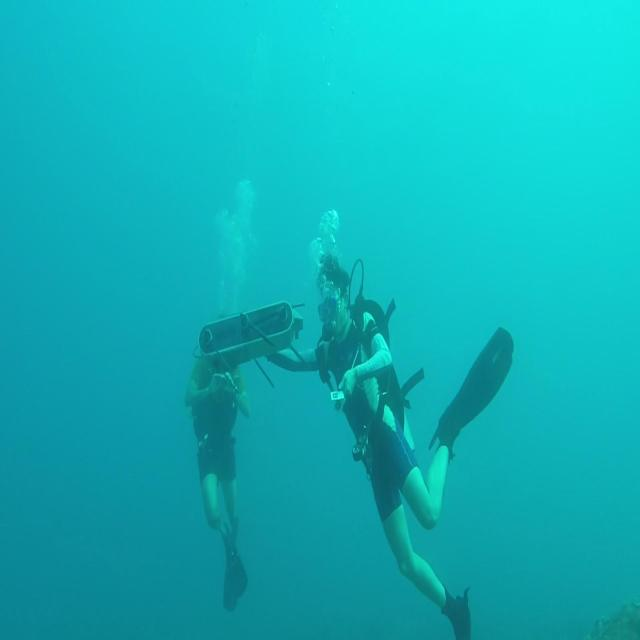human: (262, 210, 514, 638), (184, 344, 250, 612)
